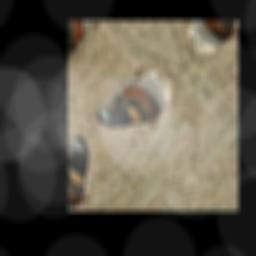Swallow: (101, 76, 166, 148)
